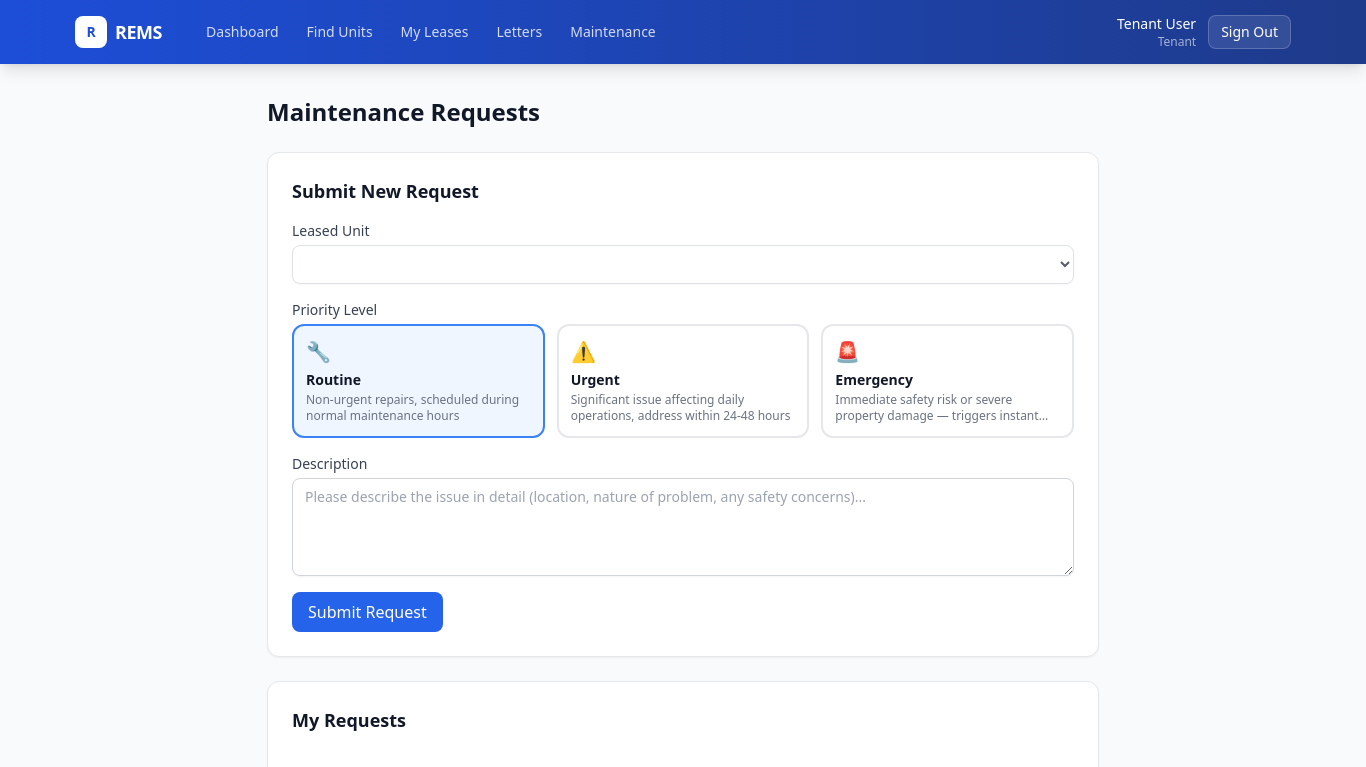
it: TC-10: Maintenance Request page › shows error message when description is empty on submit
Click the button "Submit Request" at point(367, 612), box x1=292 y1=592 x2=443 y2=632
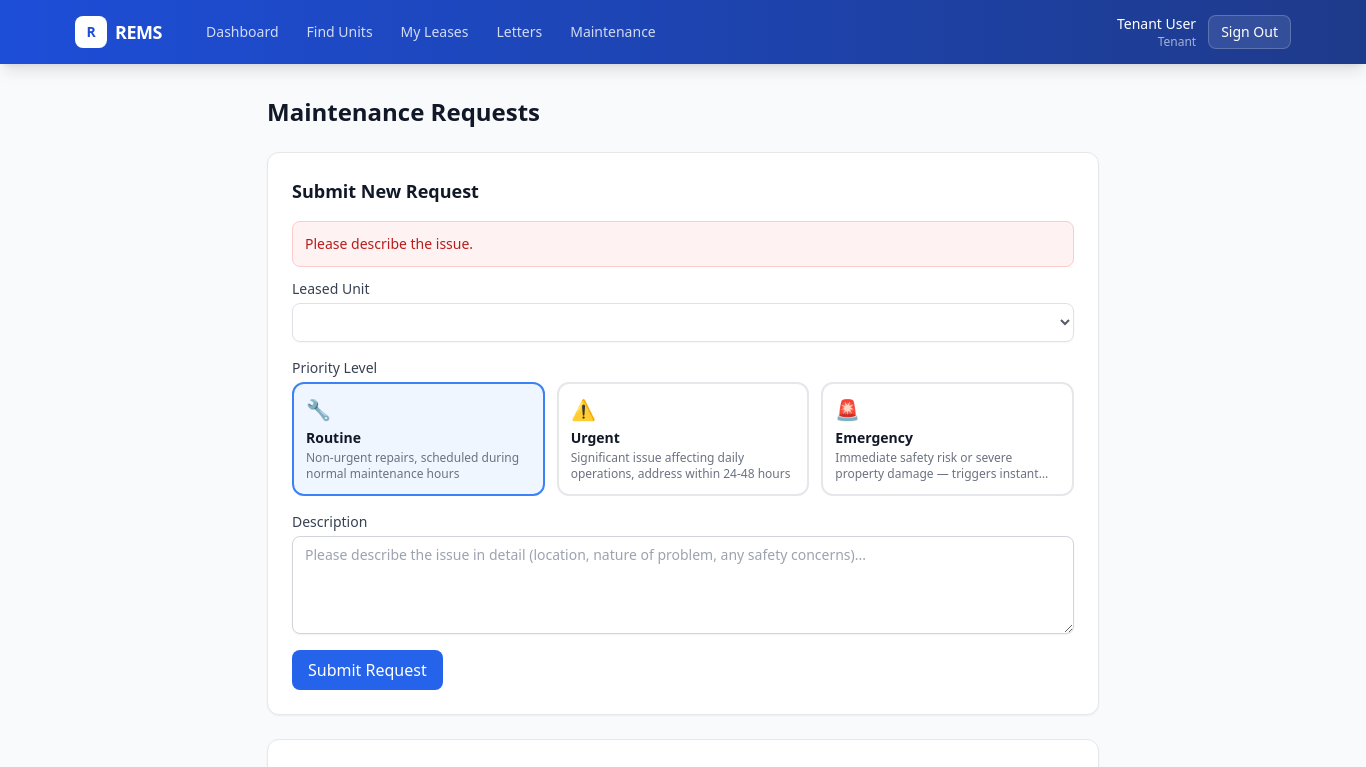
Check: the text "Please describe the issue." is shown, box x1=292 y1=221 x2=1074 y2=267
